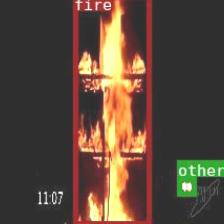fire: (72, 0, 150, 224)
